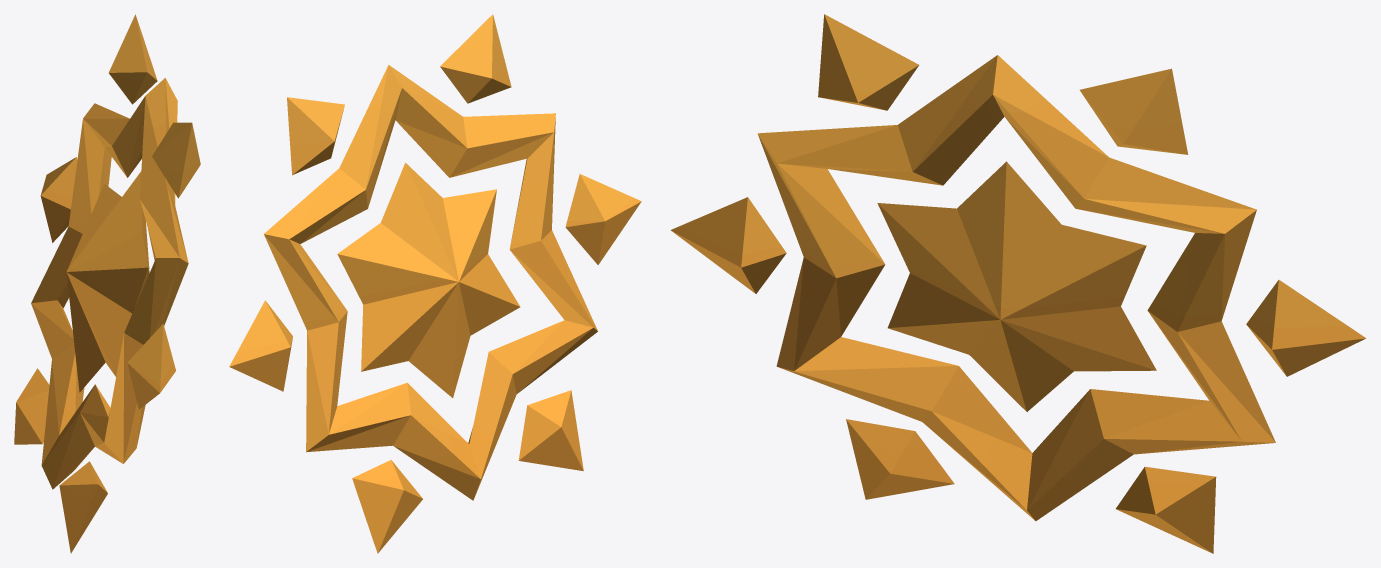
The model's file is CharSkyKid_Horn_Snowflake_01.glb.
3 renders of one model, left to right at view 1: azimuth 30°, elevation 25°; view 2: azimuth 150°, elevation 25°; view 3: azimuth 270°, elevation 25°, orthographic. The views are drawn at different scales.
Visible parts, largest first — view 1: CharSkyKid_Horn_Snowflake_01; view 2: CharSkyKid_Horn_Snowflake_01; view 3: CharSkyKid_Horn_Snowflake_01.
Boxes of the visible parts, left/top/right/bottom form: CharSkyKid_Horn_Snowflake_01: left=14, top=14, right=200, bottom=553; CharSkyKid_Horn_Snowflake_01: left=229, top=14, right=641, bottom=553; CharSkyKid_Horn_Snowflake_01: left=670, top=14, right=1366, bottom=553.
Bounding box in the file's own units: 0.5142 × 1.13 × 1.27.
Materials: 1 (1 with a texture image).
